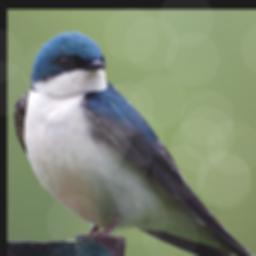Swallow: (13, 30, 256, 256)
